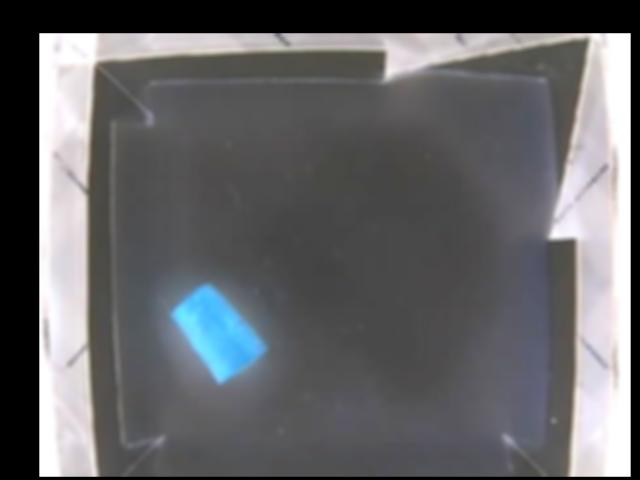Carrot: (171, 281, 269, 385)
